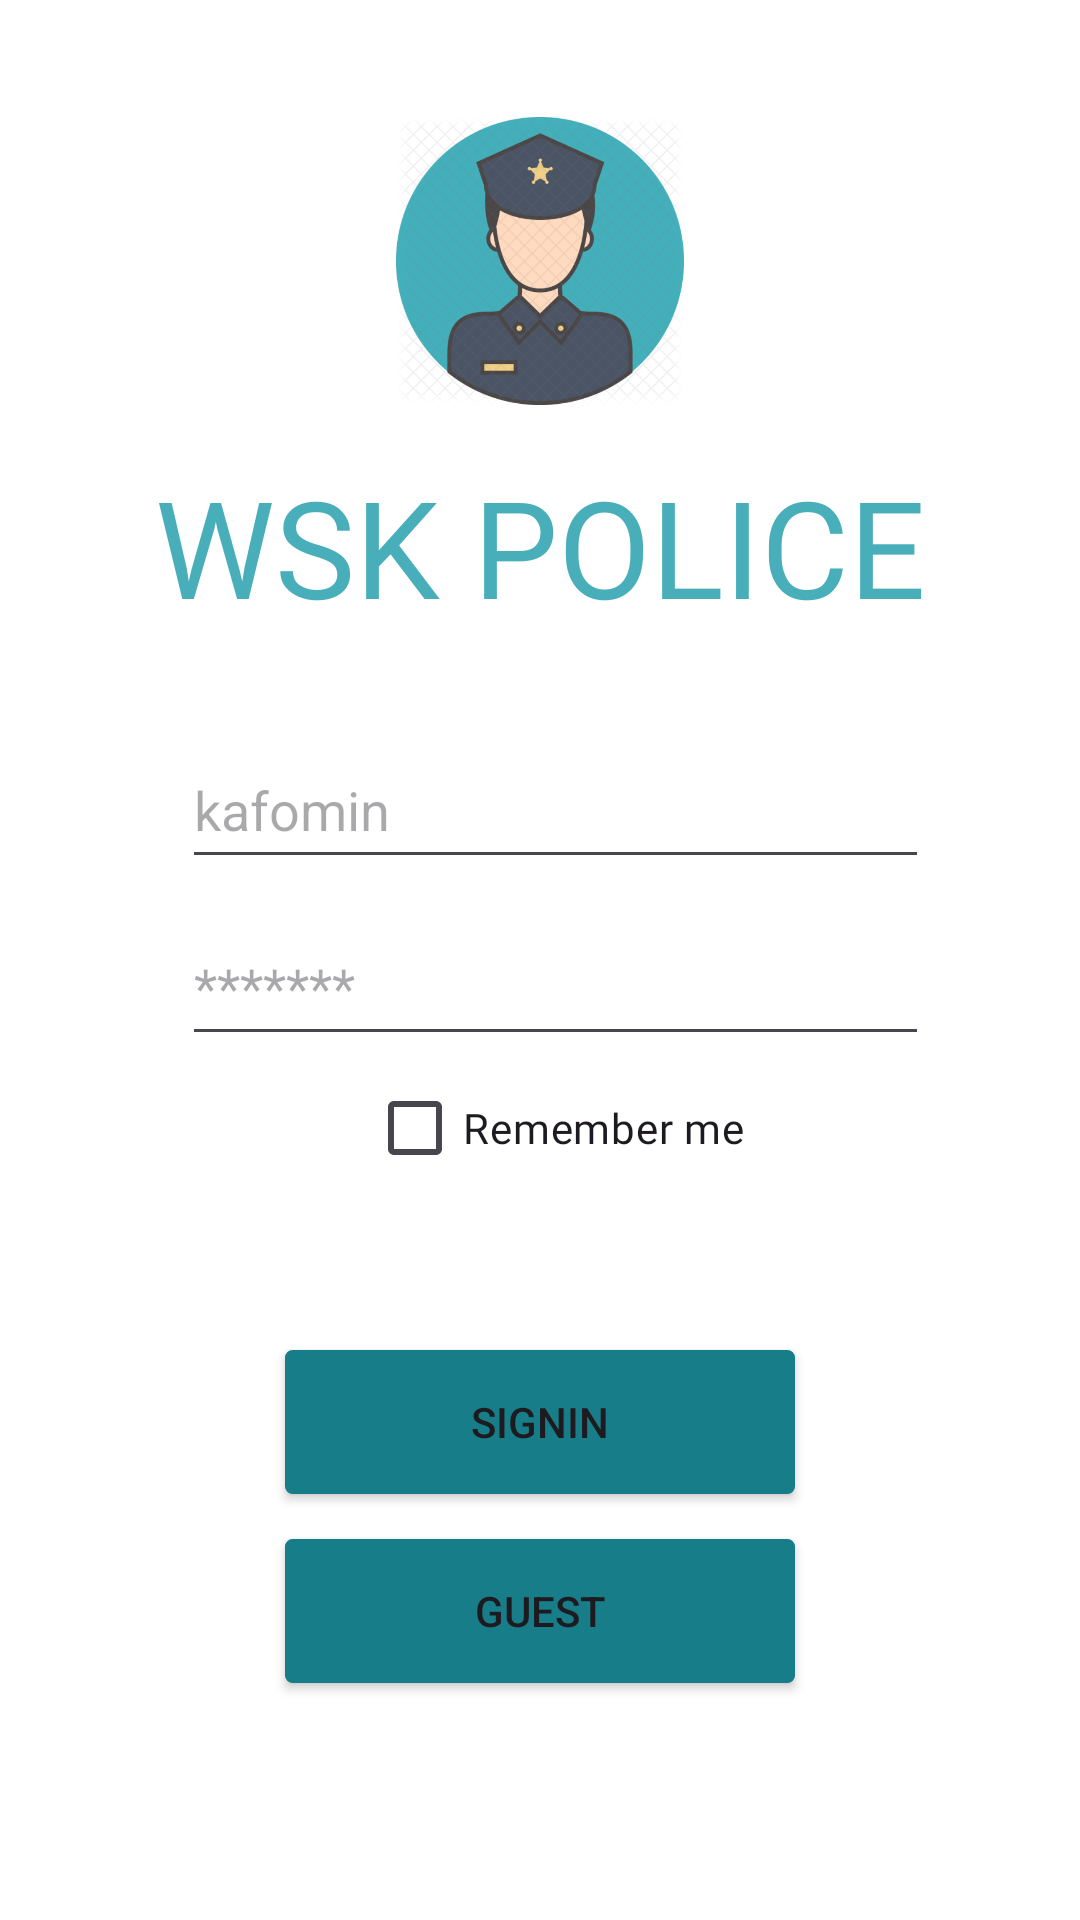

Screen size 1080×1920. Icon name, then its box in pixels as [x1, y1, x2, y2]:
sherif: [396, 117, 684, 405]
